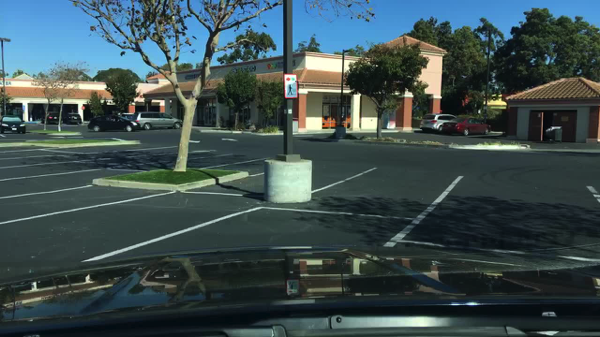car: (439, 114, 492, 137), (87, 114, 140, 132), (137, 111, 183, 130), (418, 111, 453, 134), (0, 116, 28, 135), (41, 112, 64, 125), (63, 113, 82, 126), (122, 113, 134, 119)
traffic sign: (282, 72, 299, 99), (81, 106, 86, 110)
